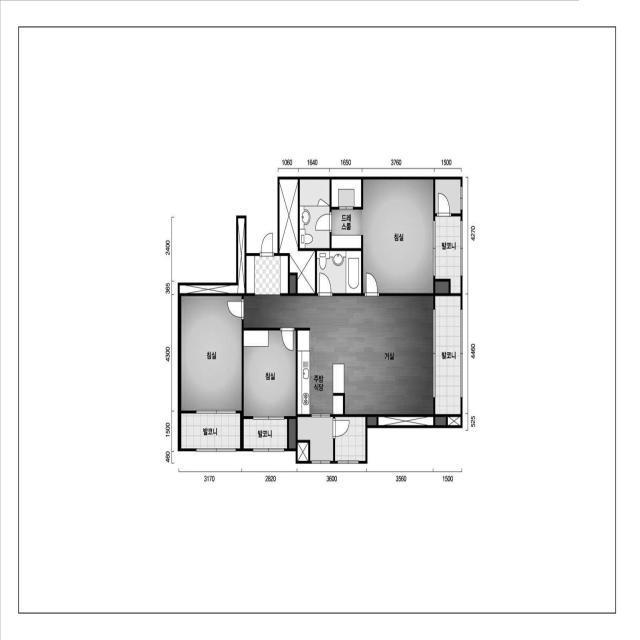space_balconi: (435, 296, 461, 414), (181, 413, 240, 449), (435, 216, 461, 293), (335, 417, 365, 461), (244, 419, 287, 449)
space_bedroom: (363, 179, 433, 293), (181, 296, 242, 411), (244, 330, 296, 416)
space_dressroom: (331, 210, 363, 248), (332, 179, 361, 207)
space_front: (246, 256, 288, 295)
space_kitchen: (298, 328, 345, 414)
space_living_room: (244, 296, 433, 414)
space_other: (180, 218, 245, 294), (279, 179, 315, 294), (298, 417, 333, 461), (435, 179, 461, 214), (378, 417, 433, 426), (297, 442, 309, 461), (289, 419, 296, 449), (435, 282, 449, 293), (448, 417, 461, 425), (435, 417, 446, 425), (367, 417, 377, 425)
space_toilet: (300, 179, 330, 248), (317, 250, 361, 294)
